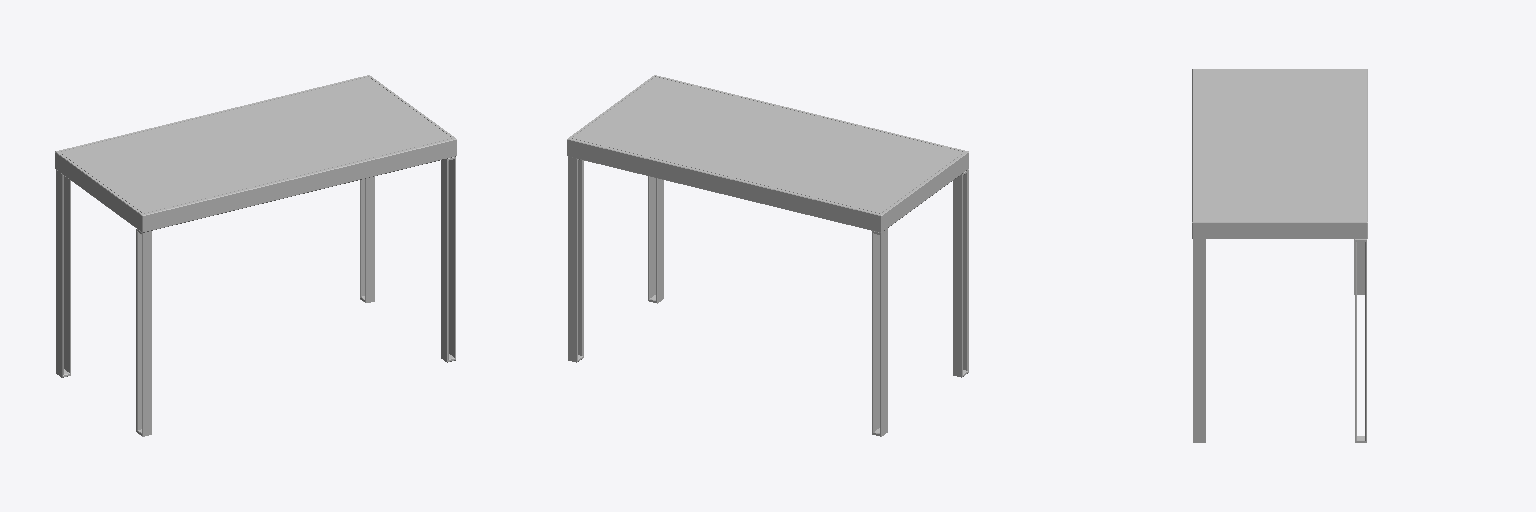
The model's file is Mesa.obj.
3 renders of one model, left to right at view 1: azimuth 30°, elevation 25°; view 2: azimuth 150°, elevation 25°; view 3: azimuth 270°, elevation 25°, orthographic.
Parts seen in each view (by area): view 1: Mesa:Box090; view 2: Mesa:Box090; view 3: Mesa:Box090.
Boxes of the visible parts, box(x1,y1,x2,y2) form: Mesa:Box090: box(55, 75, 456, 436); Mesa:Box090: box(567, 75, 968, 436); Mesa:Box090: box(1192, 69, 1367, 442).
Size of the model in its own units: 1.16 by 0.7818 by 0.562.